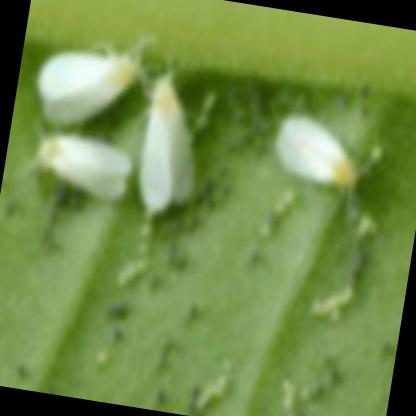whitefly: (139, 72, 197, 215), (37, 55, 143, 126), (274, 114, 355, 184)
